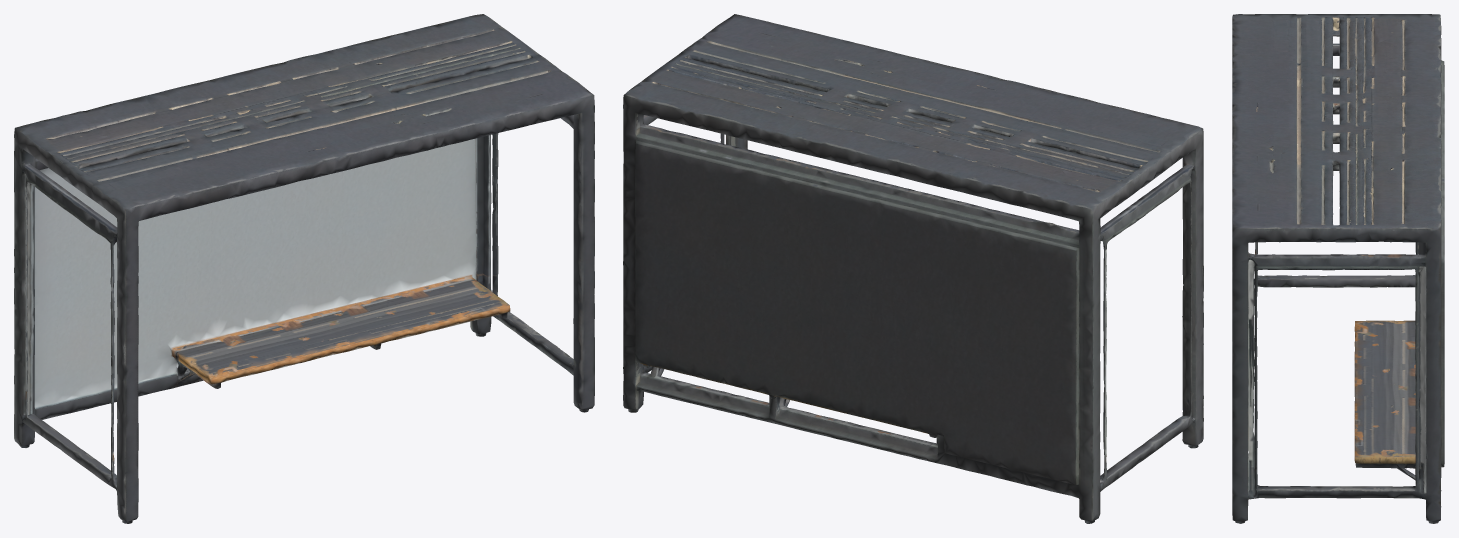
Rendered from BusStop.glb.
The picture shows the model from 3 angles, left to right: view 1: azimuth 30°, elevation 25°; view 2: azimuth 150°, elevation 25°; view 3: azimuth 270°, elevation 25°; orthographic projection. The views are drawn at different scales.
Visible parts, largest first — view 1: texture_mapping; view 2: texture_mapping; view 3: texture_mapping.
Boxes of the visible parts, x1,y1,x2,y2 form: texture_mapping: (14,14,594,523); texture_mapping: (623,14,1203,523); texture_mapping: (1232,14,1444,523).
Bounding box in the file's own units: 0.9989 × 0.6418 × 0.4161.
Materials: 1 (1 with a texture image).
